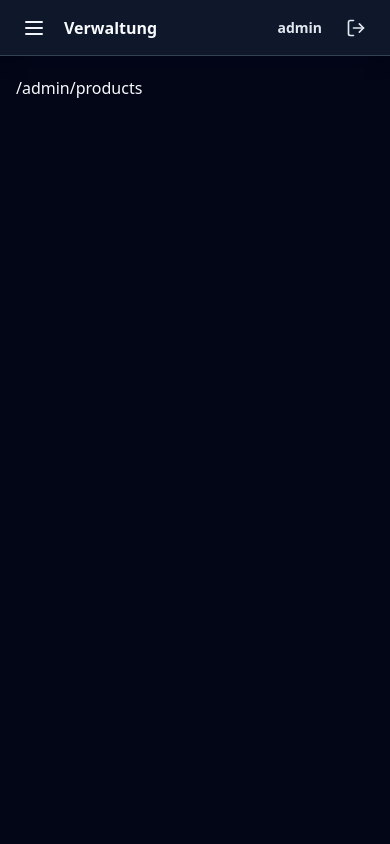
Test: Admin-Shell und Sidebar › schließt den mobilen Dialog über die abgedunkelte Fläche
Click the button named "Verwaltungsmenü öffnen" at [34, 28], box x1=12 y1=6 x2=56 y2=50
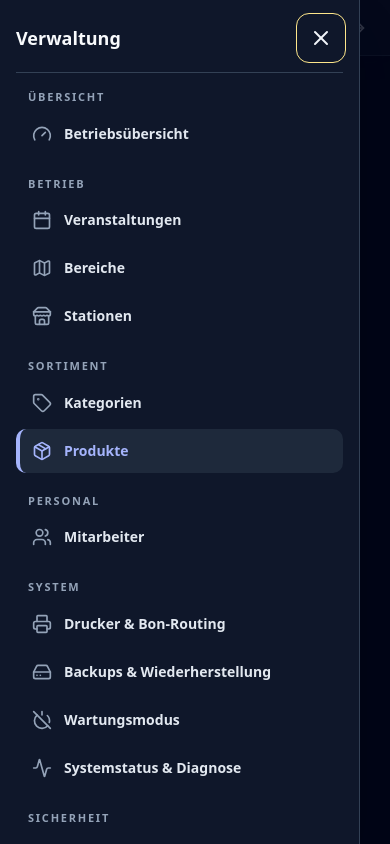
Click the 1st button named "Verwaltungsmenü schließen" at [367, 422], box x1=0 y1=0 x2=389 y2=843
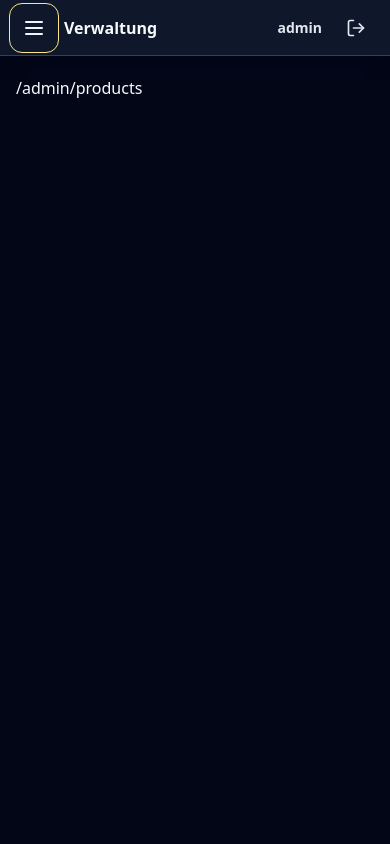
Now the dialog is gone
